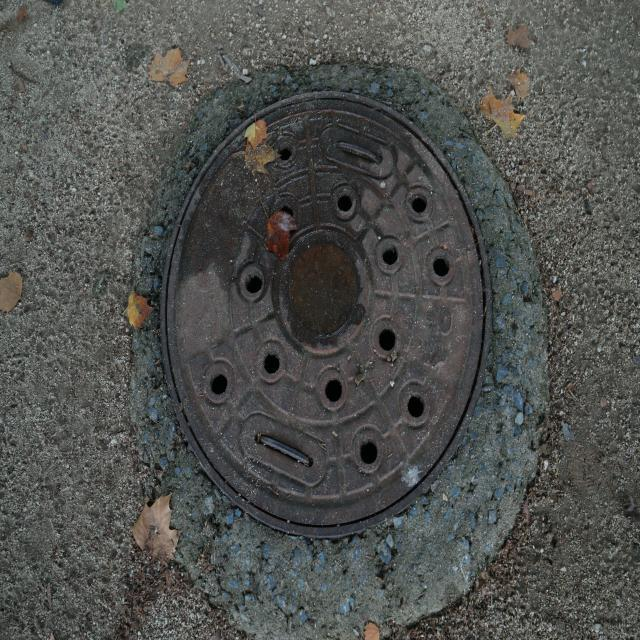manhole: (135, 72, 537, 543)
